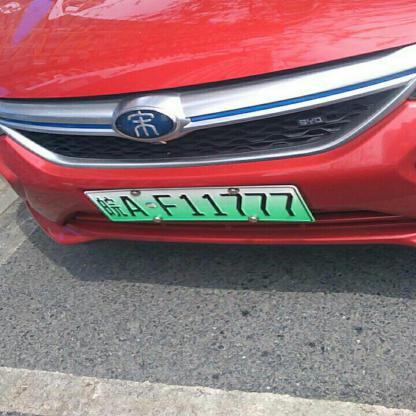lp: (86, 185, 312, 221)
